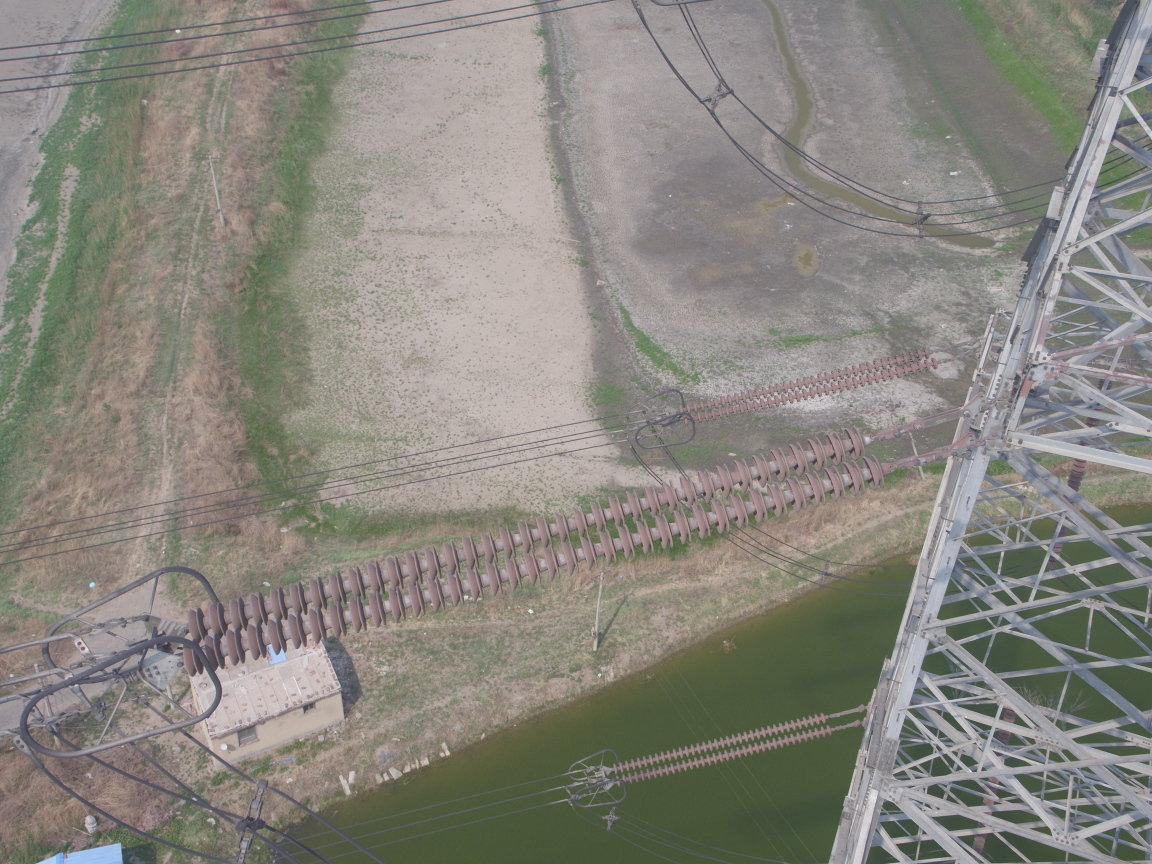insulator: (170, 422, 922, 683), (674, 343, 955, 422), (612, 705, 843, 788)
